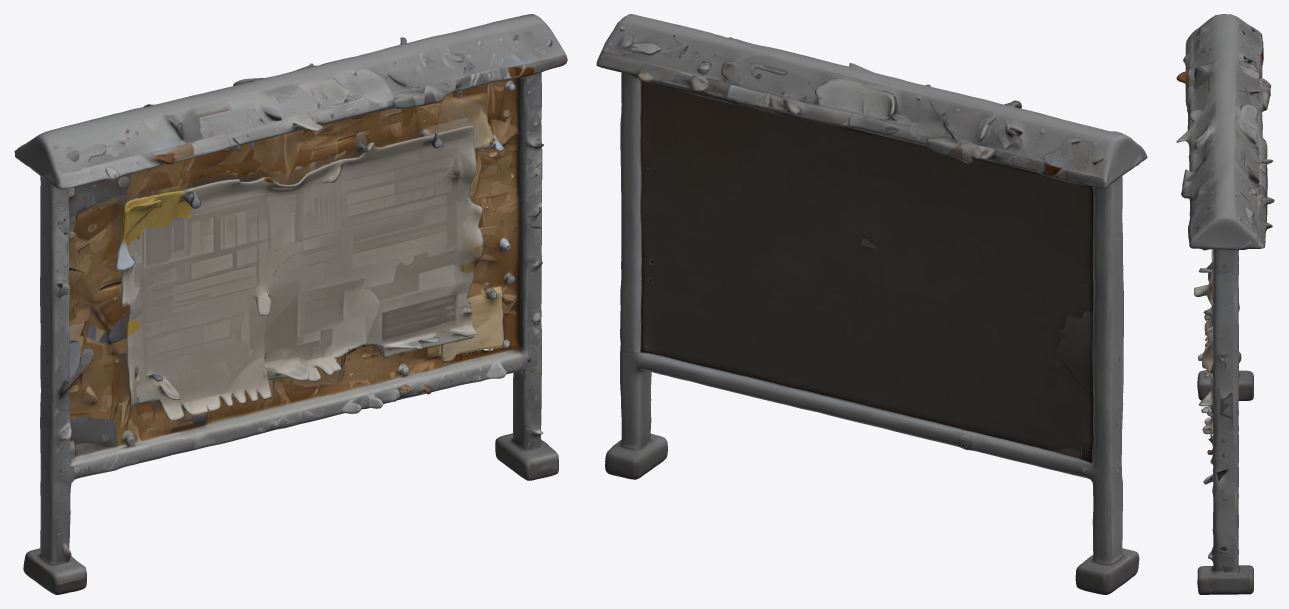
The model's file is g67_notice_board.glb.
The picture shows the model from 3 angles, left to right: view 1: azimuth 30°, elevation 25°; view 2: azimuth 150°, elevation 25°; view 3: azimuth 270°, elevation 25°; orthographic projection. The views are drawn at different scales.
Parts seen in each view (by area): view 1: tripo_node_522eac92; view 2: tripo_node_522eac92; view 3: tripo_node_522eac92.
Boxes of the visible parts, x1,y1,x2,y2 form: tripo_node_522eac92: [14, 14, 567, 594]; tripo_node_522eac92: [596, 14, 1147, 594]; tripo_node_522eac92: [1176, 14, 1274, 594].
Size of the model in its own units: 97.89 by 82.2 by 19.31.
1 material, 1 textured.
